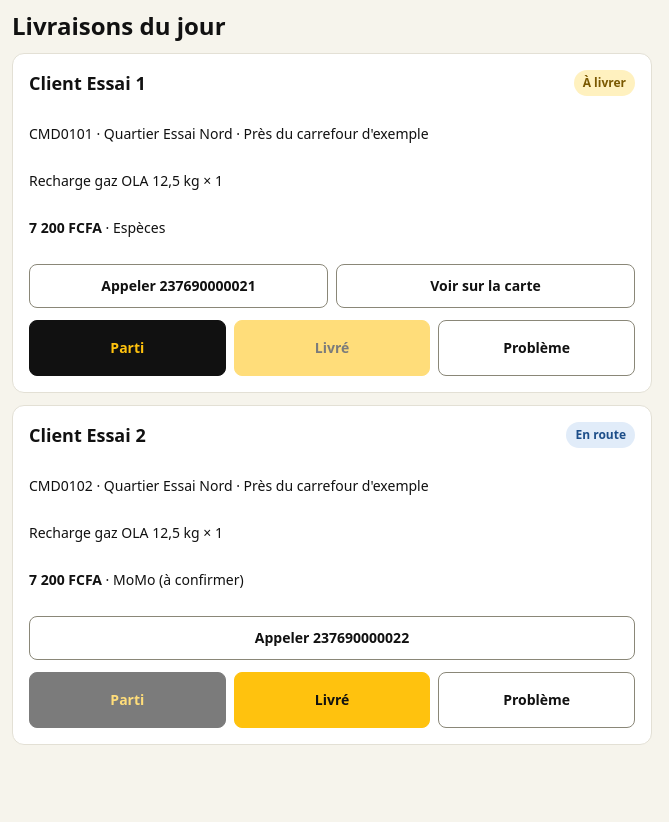
Test case: mode livreur › sans liste des marques, la remise reste possible
Expected: the element "CMD0102" is shown, x1=12 y1=405 x2=652 y2=745
Click the button "Livré" below "Appeler 237690000022" at (332, 700), box x1=234 y1=672 x2=430 y2=728
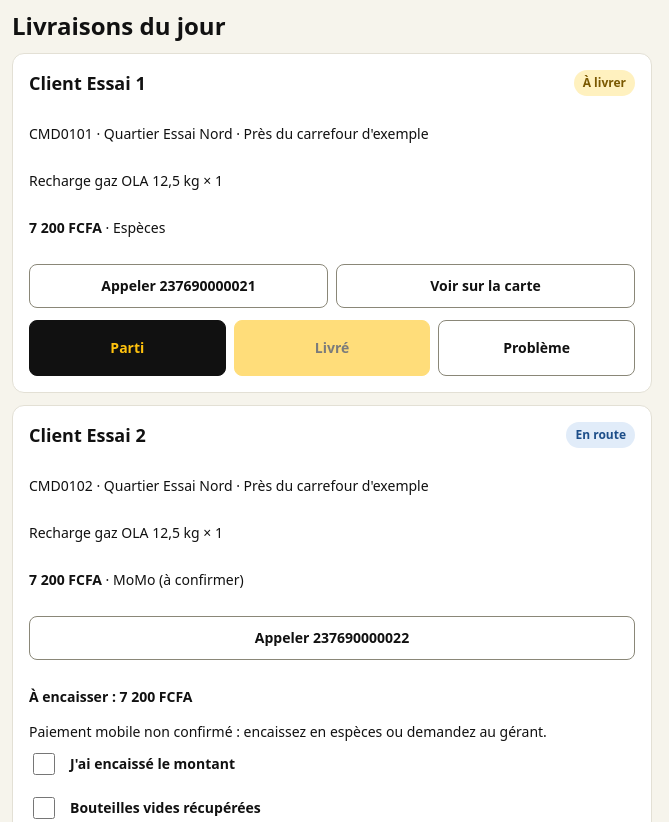
Now the checkbox labelled "Bouteilles vides récupérées" is shown, box x1=33 y1=797 x2=55 y2=819
